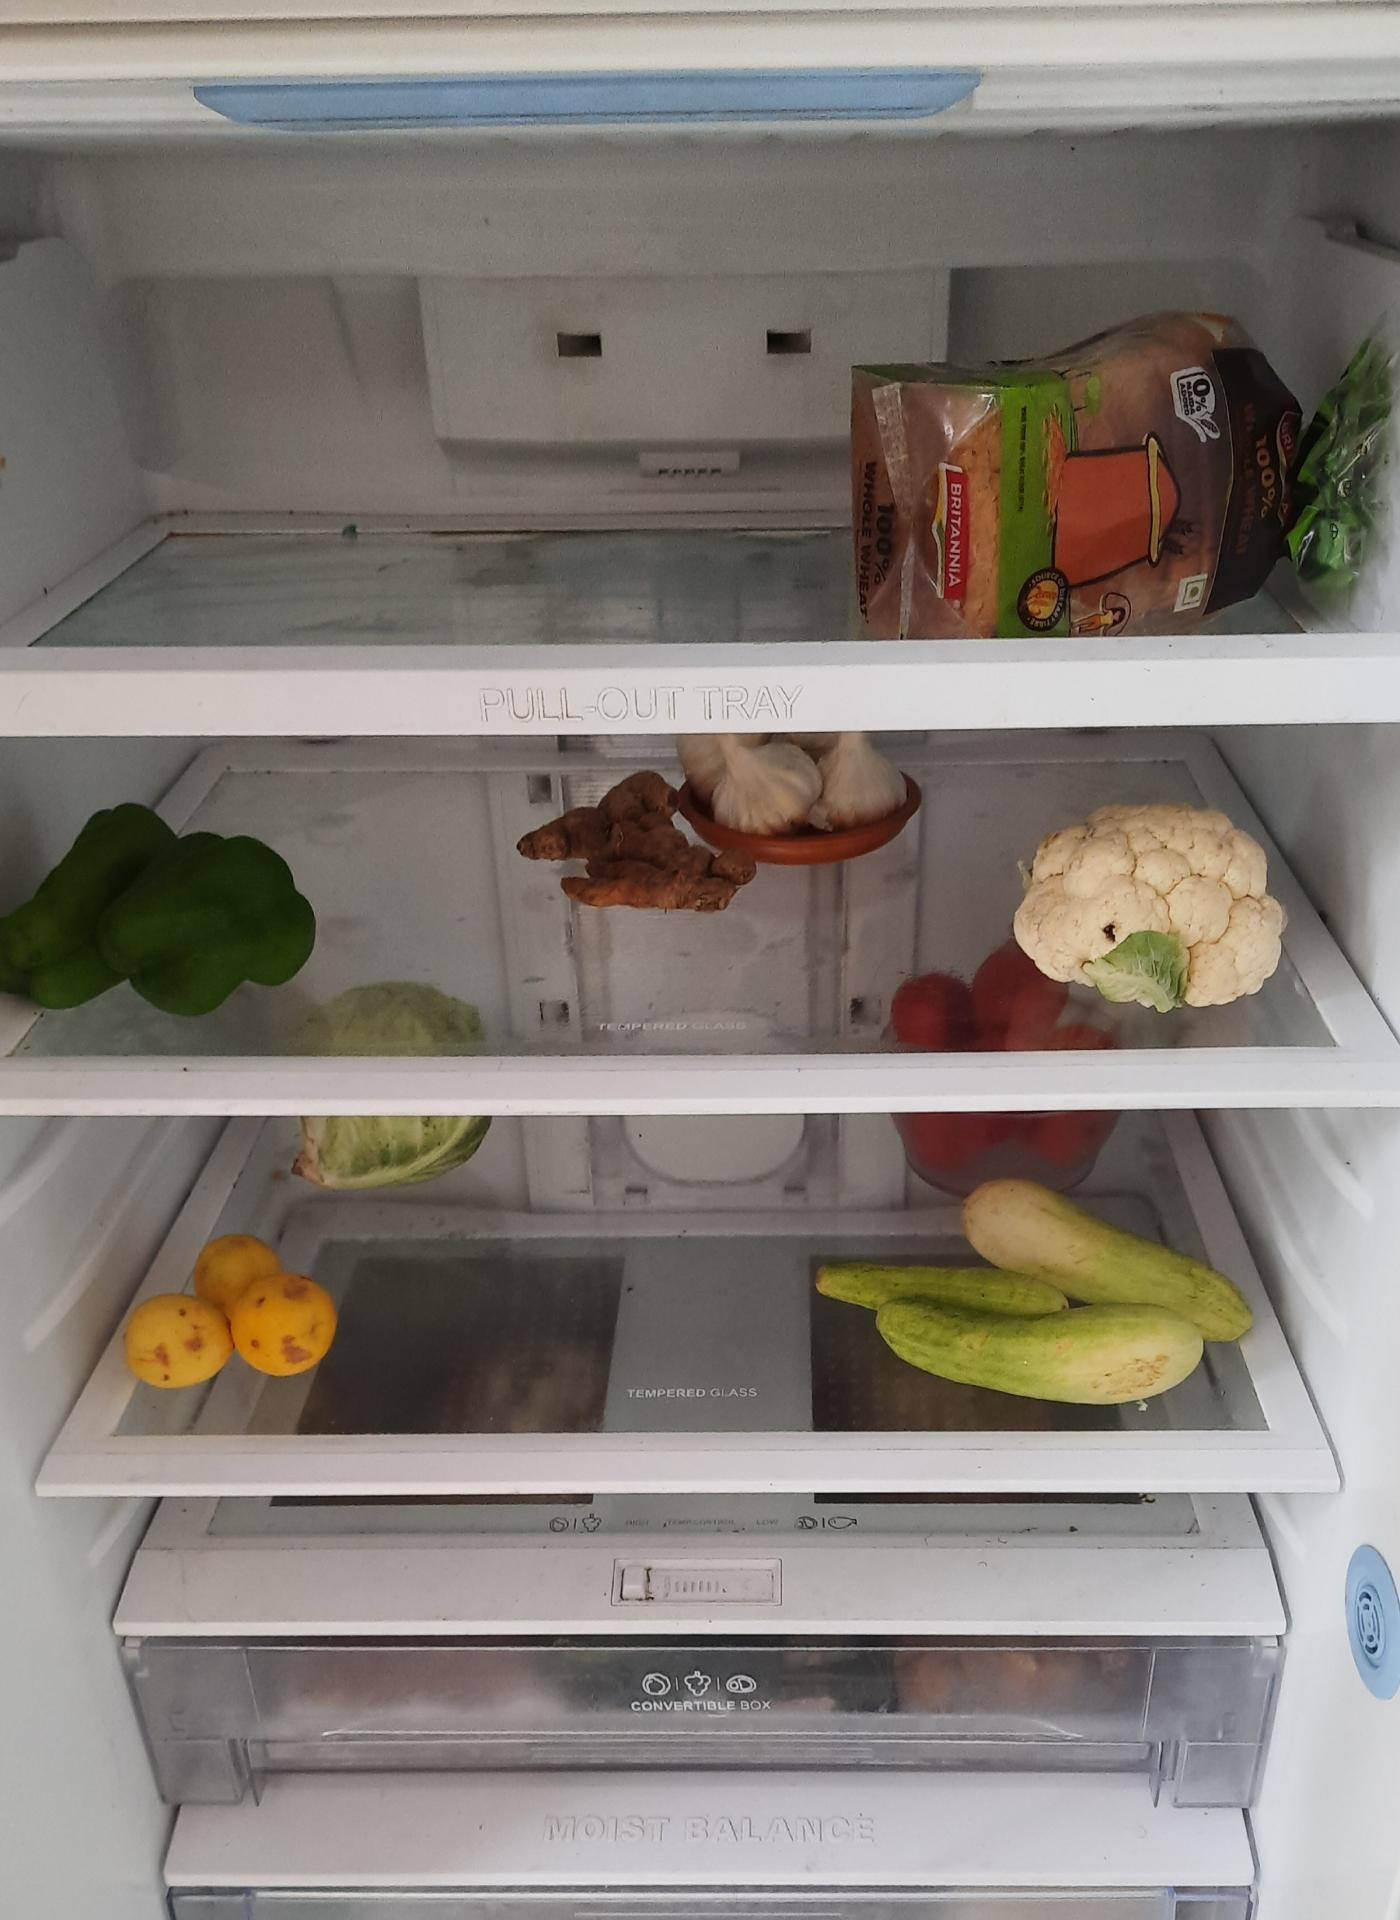bread: (841, 300, 1372, 637)
cabbage: (292, 979, 507, 1216)
capsicum: (0, 795, 313, 1029)
cauliflower: (1009, 792, 1299, 1024)
cucumber: (822, 1169, 1263, 1404)
garlic: (678, 714, 939, 853)
ginger: (504, 768, 759, 933)
lemon: (116, 1224, 332, 1398)
tomato: (890, 948, 1160, 1051), (886, 1103, 1120, 1182)
